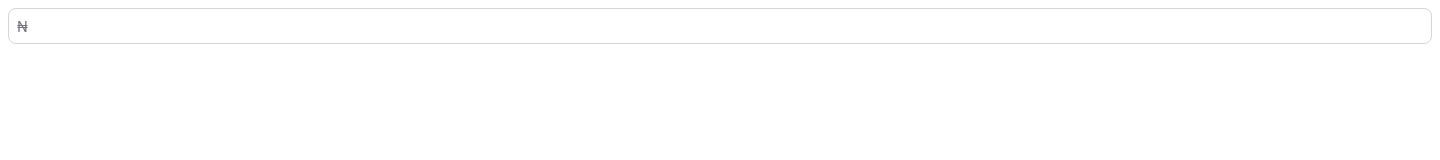
Test case: NumberInput › formats currency as the user types and stores a number
Type "1234567.891" into the field named "Amount". click: (720, 26)
box: [8,8,1432,44]
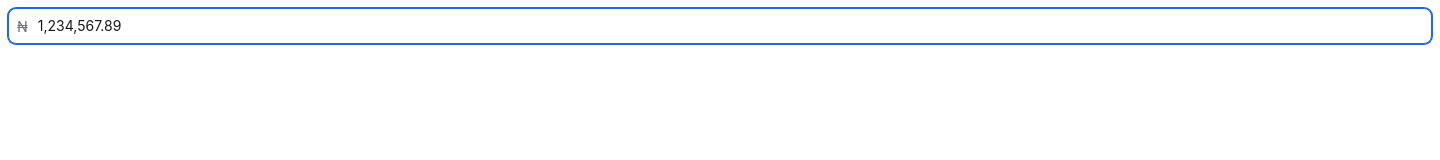
Result: the field named "Amount" holds "1,234,567.89" at [8,8,1432,44]
